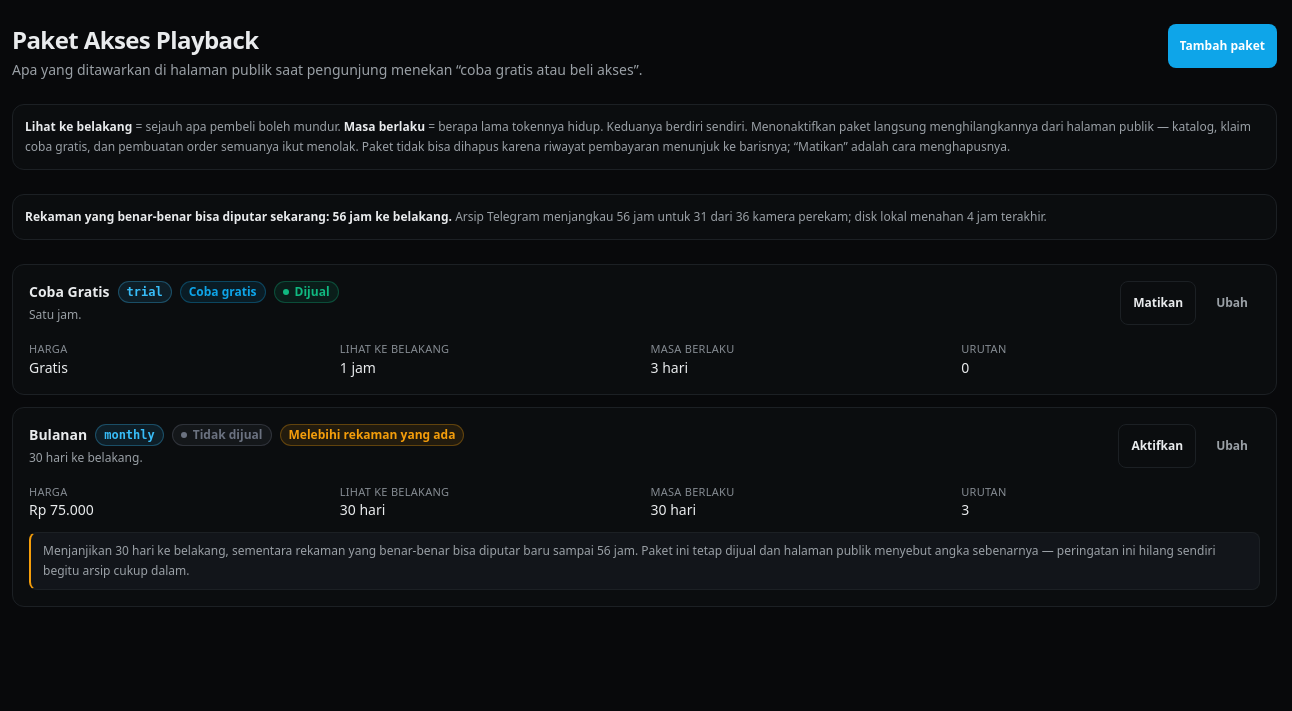
PlaybackProductManagement editing › will not let the free trial be given a price
The width and height of the screenshot is (1292, 711).
Expected: the text "Coba Gratis" is shown, top-left (29, 282), bottom-right (110, 302)
Click the button "Ubah" in the row of "trial" at (1232, 303), box top-left (1204, 281), bottom-right (1260, 325)
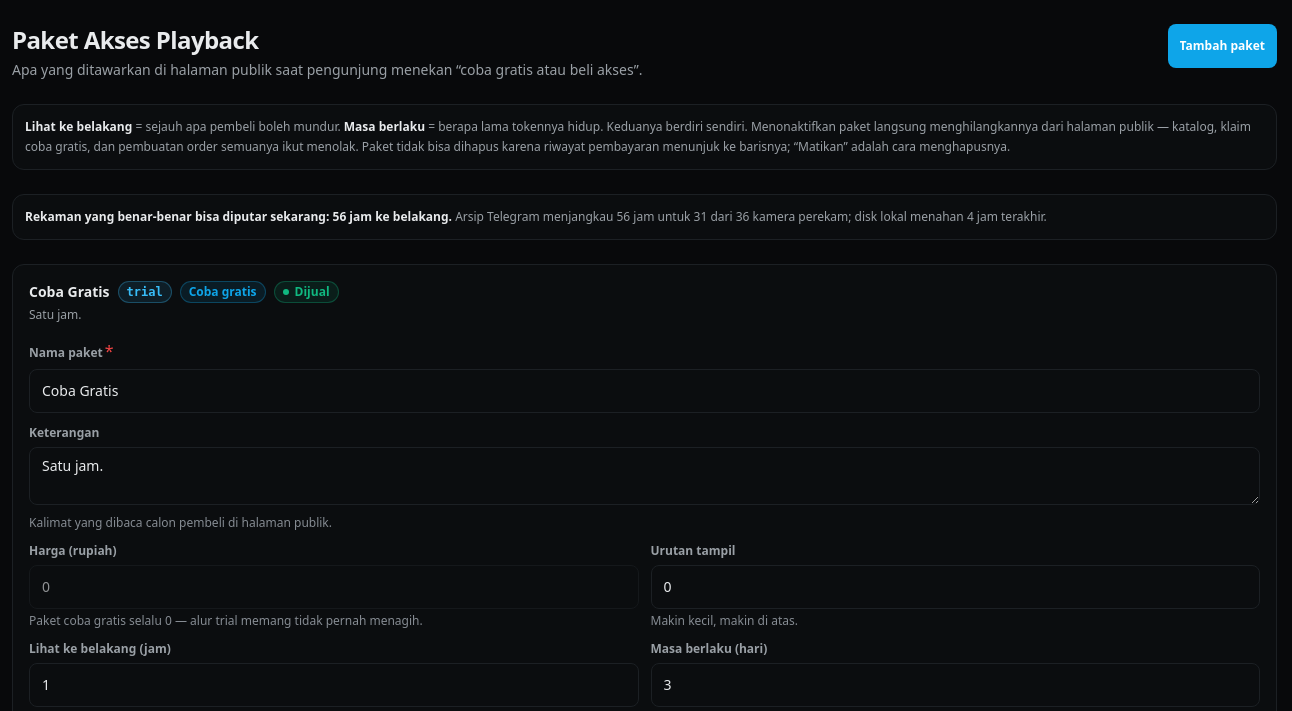
Expected: the number field labelled "Harga (rupiah)" is disabled, top-left (29, 565), bottom-right (638, 609)
